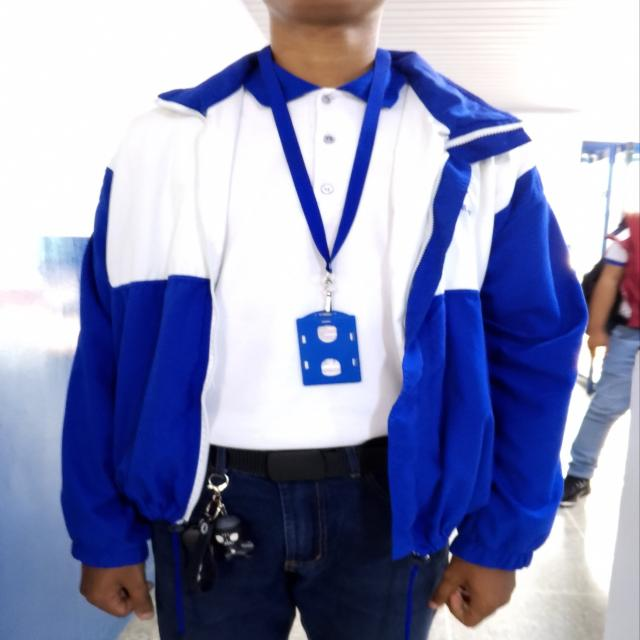carnet: (296, 310, 362, 386)
chaqueta_unefa: (58, 44, 590, 570)
